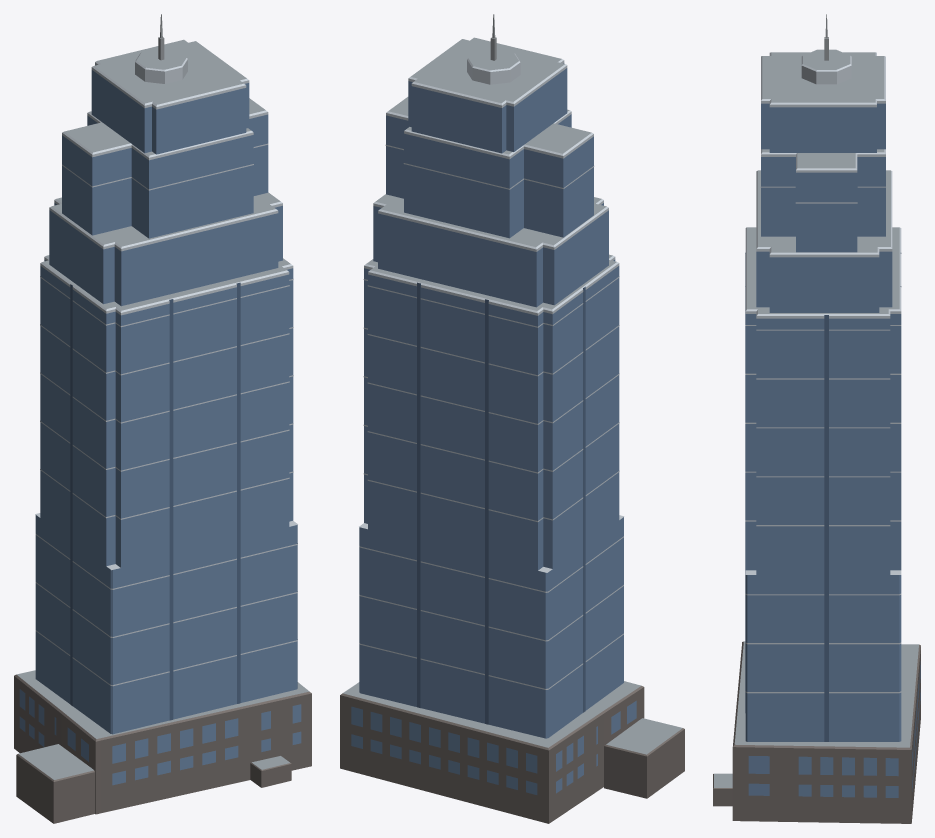
The model's file is kc-one-kansas-city-place.glb.
3 renders of one model, left to right at view 1: azimuth 30°, elevation 25°; view 2: azimuth 150°, elevation 25°; view 3: azimuth 270°, elevation 25°, orthographic.
Parts seen in each view (by area): view 1: One Kansas City Place; view 2: One Kansas City Place; view 3: One Kansas City Place.
Boxes of the visible parts, x1=… form: One Kansas City Place: x1=14, y1=14, x2=311, y2=823; One Kansas City Place: x1=340, y1=14, x2=684, y2=823; One Kansas City Place: x1=713, y1=14, x2=920, y2=823.
Bounding box in the file's own units: 69.2 × 190 × 47.4.
